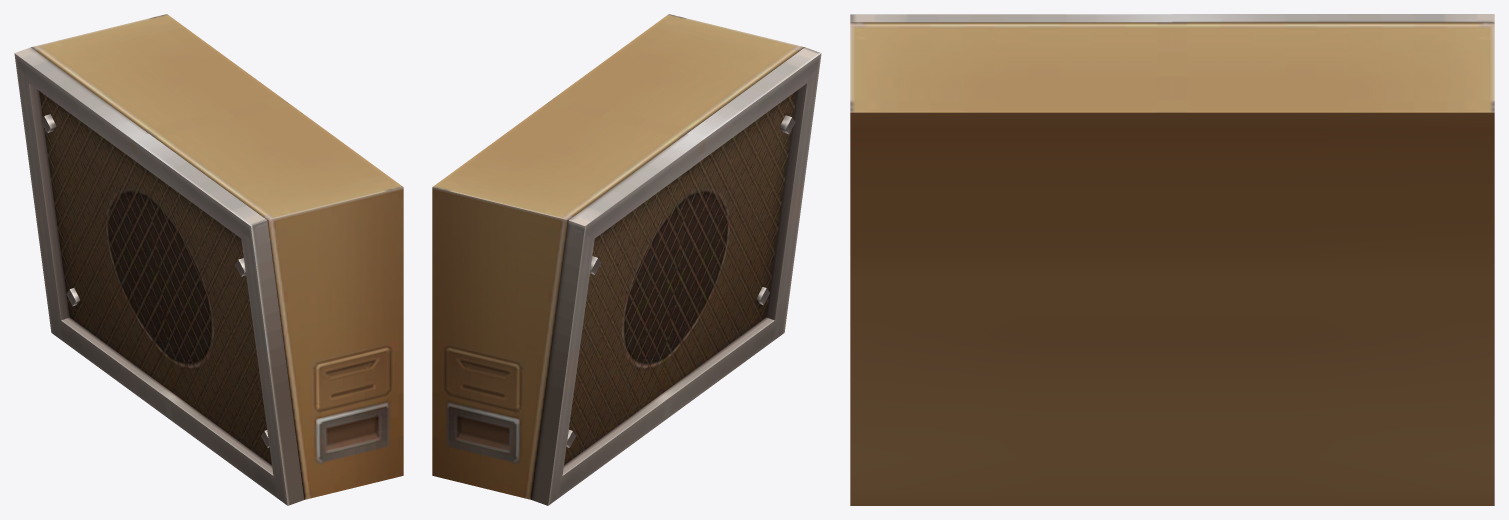
The model's file is my_abydosclassroom_01_speaker.glb.
The picture shows the model from 3 angles, left to right: view 1: azimuth 30°, elevation 25°; view 2: azimuth 150°, elevation 25°; view 3: azimuth 270°, elevation 25°; orthographic projection. The views are drawn at different scales.
Visible parts, largest first — view 1: my_abydosclassroom_01_speaker; view 2: my_abydosclassroom_01_speaker; view 3: my_abydosclassroom_01_speaker.
Part boxes in pixels (x1,y1,x2,y2): my_abydosclassroom_01_speaker: [14, 14, 403, 505]; my_abydosclassroom_01_speaker: [432, 14, 821, 505]; my_abydosclassroom_01_speaker: [850, 14, 1494, 505].
Size of the model in its own units: 0.00149 by 0.00272 by 0.00401.
1 material, 1 textured.
